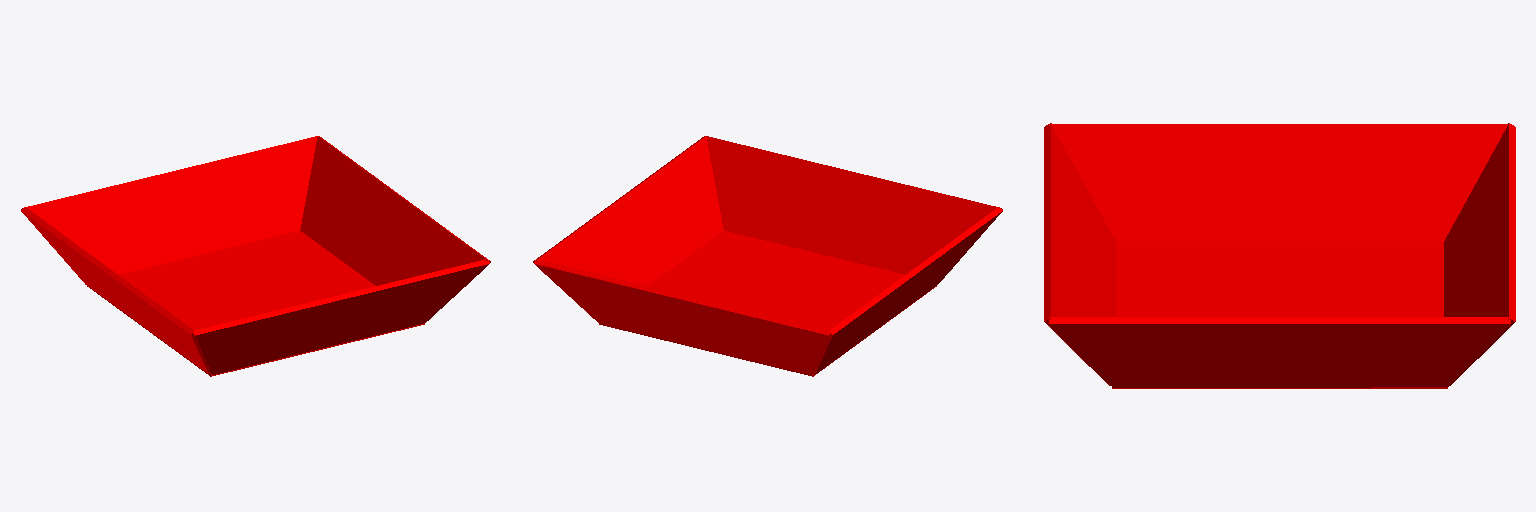
URDF robot description (tabletop):
<robot name="tabletop">
  <link name="base_link">
    <inertial>
      <origin rpy="0 0 0" xyz="0 0 0"/>
      <mass value="0"/>
      <inertia ixx="0" ixy="0" ixz="0" iyy="0" iyz="0" izz="0"/>
    </inertial>
    <visual>
      <origin rpy="0 0 0" xyz="0 0 0"/>
      <geometry>
        <mesh filename="tray_textured.obj" scale="0.5 0.5 0.5"/>
      </geometry>
      <material name="tray_material">
        <color rgba="1 0 0 1"/>
      </material>
    </visual>
    <collision>
      <origin rpy="0 0 0" xyz="0 0 0.005"/>
      <geometry>
	<box size=".6 .6 .02"/>
      </geometry>
    </collision>
    <collision>
      <origin rpy="0 0.575469961 0" xyz="0.25 0 0.059"/>
      <geometry>
	<box size=".02 .6 .15"/>
      </geometry>
    </collision>
    <collision>
      <origin rpy="0 -0.575469961 0" xyz="-0.25 0 0.059"/>
      <geometry>
	<box size=".02 .6 .15"/>
      </geometry>
    </collision>
    <collision>
      <origin rpy="0.575469961 0 0" xyz="0 -0.25 0.059"/>
      <geometry>
	<box size=".6 .02 .15"/>
      </geometry>
    </collision>
    <collision>
      <origin rpy="-0.575469961 0 0" xyz="0 0.25 0.059"/>
      <geometry>
	<box size=".6 .02 .15"/>
      </geometry>
    </collision>

  </link>
</robot>

--- Facts derived from the render (not from the file) ---
The picture shows the robot from 3 angles, left to right: view 1: azimuth 30°, elevation 25°; view 2: azimuth 150°, elevation 25°; view 3: azimuth 270°, elevation 25°; orthographic projection.
Model tabletop with 1 links and 0 joints (none), rooted at base_link, posed all joints at 0.
Visible links, largest first — view 1: base_link; view 2: base_link; view 3: base_link.
Boxes of the visible links, x1,y1,x2,y2 form: base_link: [21, 136, 490, 376]; base_link: [533, 136, 1002, 376]; base_link: [1044, 123, 1515, 388].
Bounding box of the posed robot: 0.5901 × 0.5901 × 0.1356 m (x, y, z).
1 mesh visuals loaded from 1 distinct referenced files (1 OBJ).